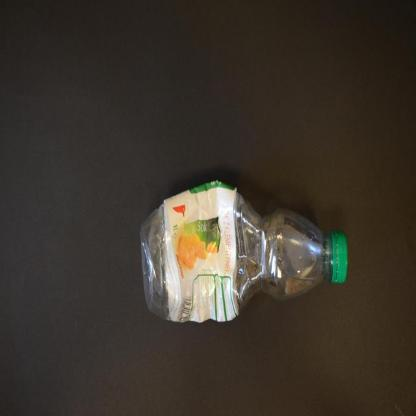Plastic Bottle: (142, 181, 348, 323)
